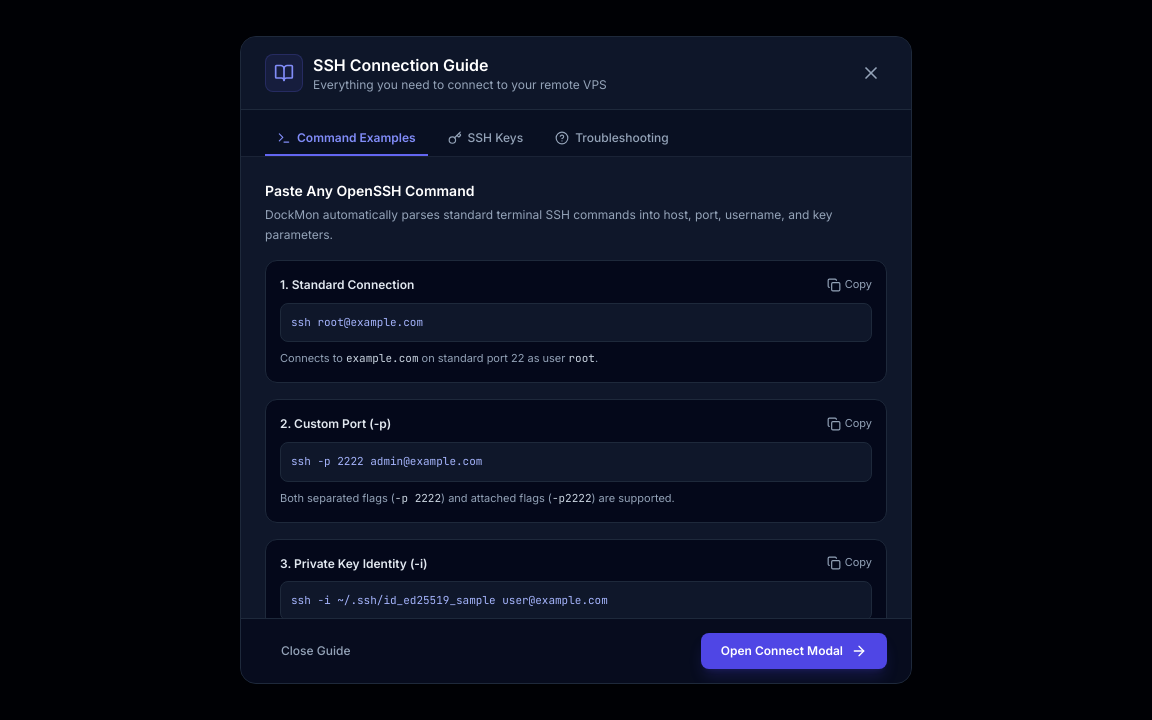
it: SshGuideModal Component (TDD) › should switch between tabs: Command Examples, SSH Keys, and Troubleshooting
Note: Switch to SSH Keys tab
Click the button "SSH Keys": (485, 139) [436, 122, 535, 156]
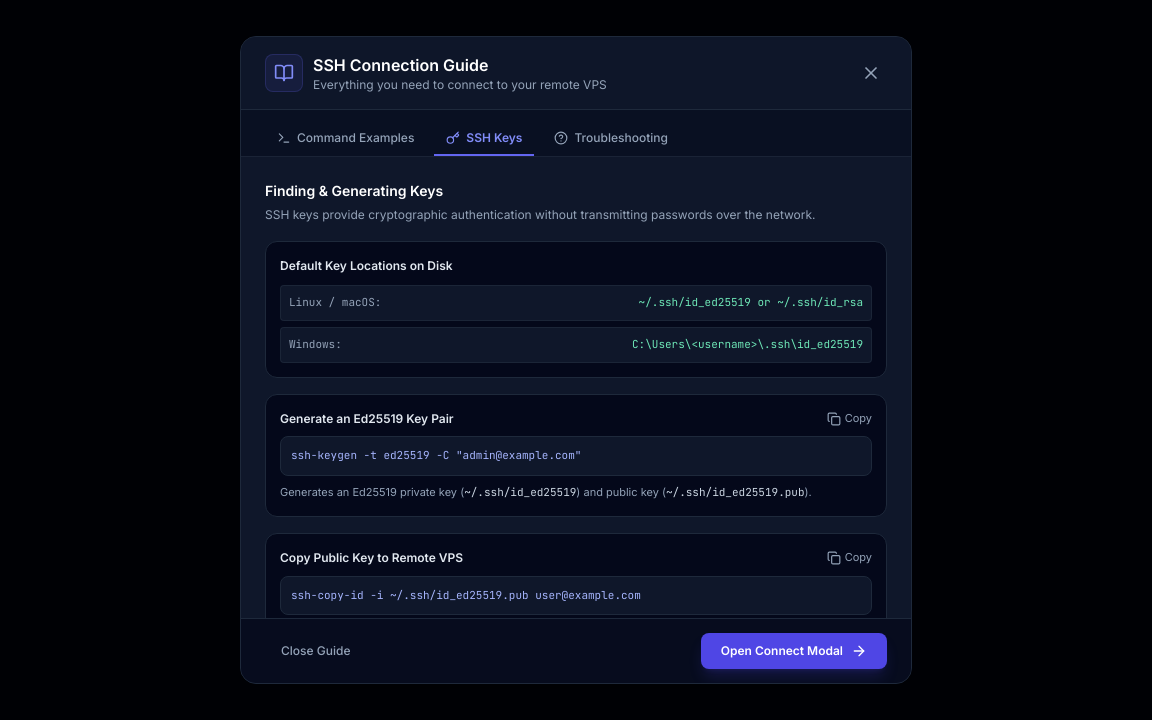
Result: the heading "Finding & Generating Keys" is shown at [265, 182, 443, 199]
Result: the text "ssh-keygen -t ed25519 -C \"admin@example.com\"" is shown at [280, 436, 872, 476]
Result: the text "~/.ssh/id_ed25519 or ~/.ssh/id_rsa" is shown at [639, 294, 863, 312]
Note: Switch to Troubleshooting tab
Click the button "Troubleshooting": (611, 139) [542, 122, 680, 156]
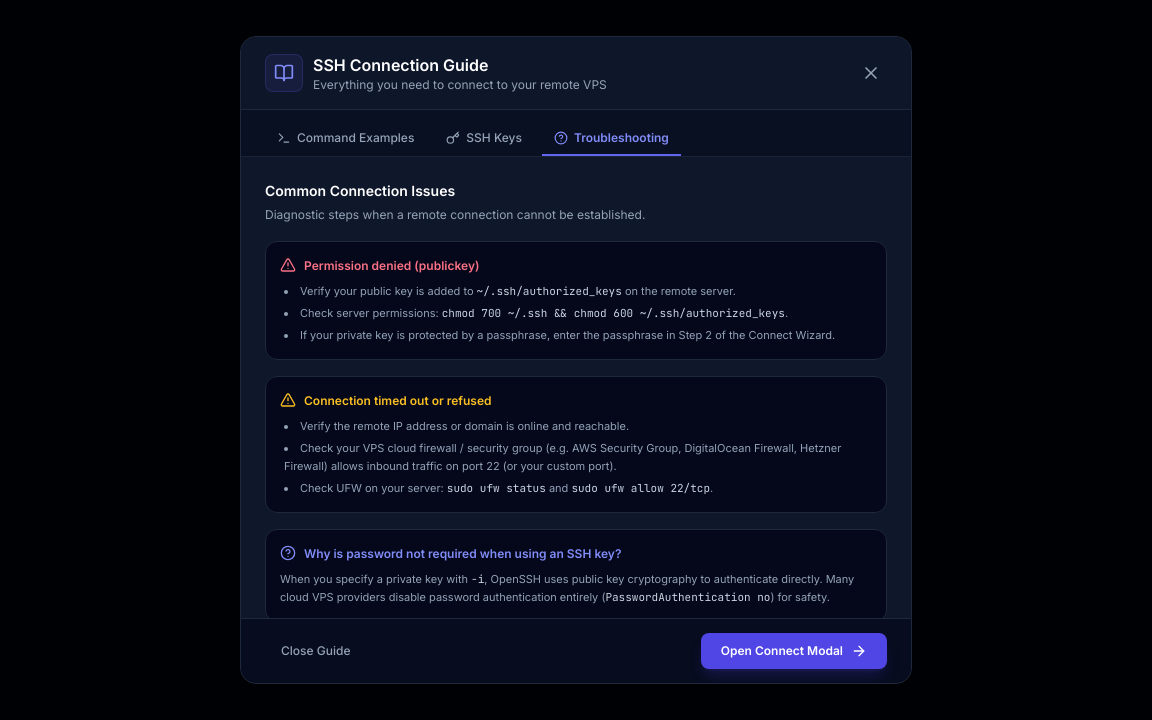
Result: the text "Permission denied (publickey)" is shown at [304, 256, 479, 275]
Result: the text "Connection timed out or refused" is shown at [304, 391, 492, 410]
